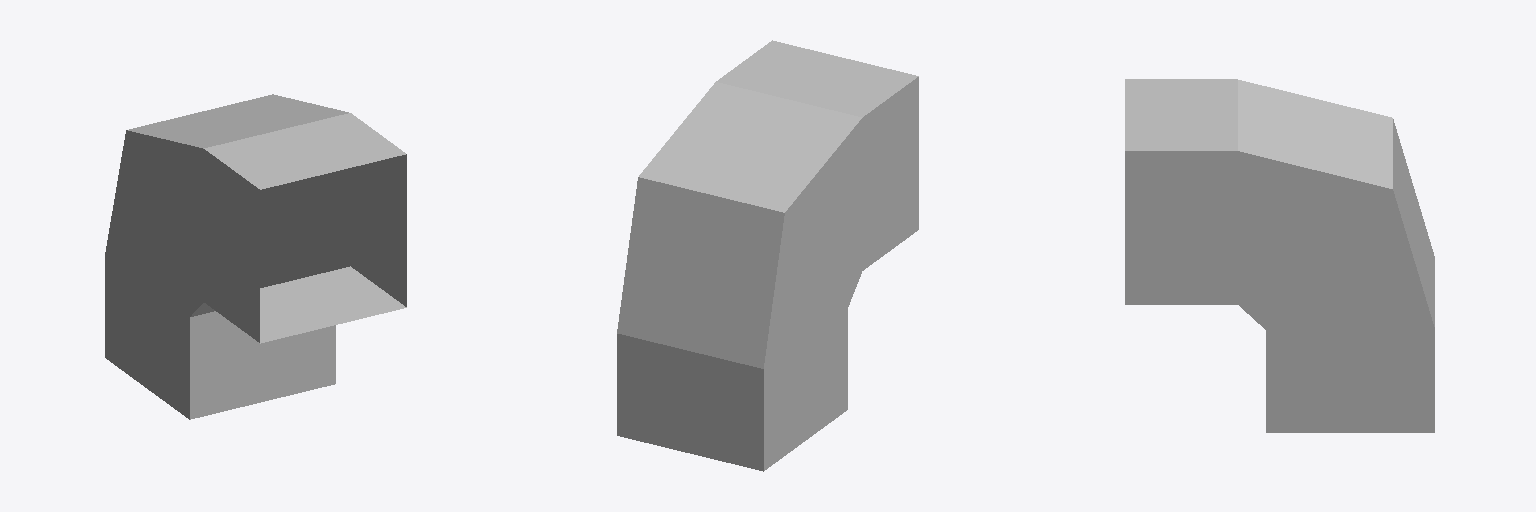
Rendered from pipe_bend.obj.
3 renders of one model, left to right at view 1: azimuth 30°, elevation 25°; view 2: azimuth 150°, elevation 25°; view 3: azimuth 270°, elevation 25°, orthographic.
Visible parts, largest first — view 1: bend; view 2: bend; view 3: bend.
Boxes of the visible parts, x1,y1,x2,y2 form: bend: [105, 94, 406, 419]; bend: [617, 40, 918, 471]; bend: [1125, 79, 1434, 432].
Size of the model in its own units: 0.375 by 0.6875 by 0.6875.